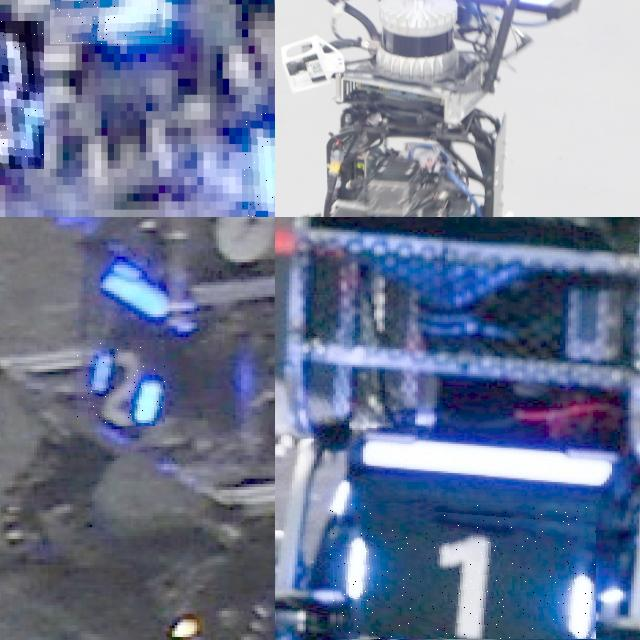B1: (330, 503, 596, 639)
B2: (77, 340, 165, 426)
B3: (0, 21, 43, 168), (50, 0, 171, 45)
